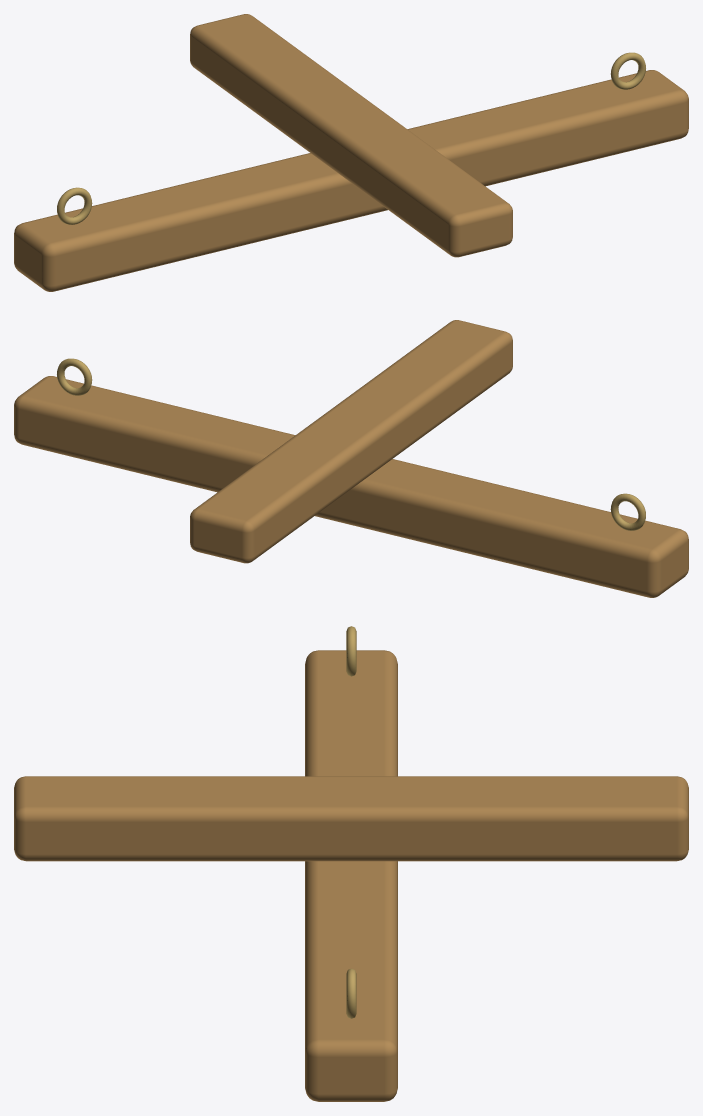
Rendered from abandoned-puppet-theatre-and-prop-vault-marionette-con-2e275810__31079.glb.
3 renders of one model, top to bottom at view 1: azimuth 30°, elevation 25°; view 2: azimuth 150°, elevation 25°; view 3: azimuth 270°, elevation 25°, orthographic. The views are drawn at different scales.
Parts seen in each view (by area): view 1: marionette-control-cross; view 2: marionette-control-cross; view 3: marionette-control-cross.
Boxes of the visible parts, x1=… form: marionette-control-cross: x1=14, y1=14, x2=688, y2=291; marionette-control-cross: x1=14, y1=320, x2=688, y2=597; marionette-control-cross: x1=14, y1=626, x2=688, y2=1101.
Size of the model in its own units: 0.56 by 0.075 by 0.4.
